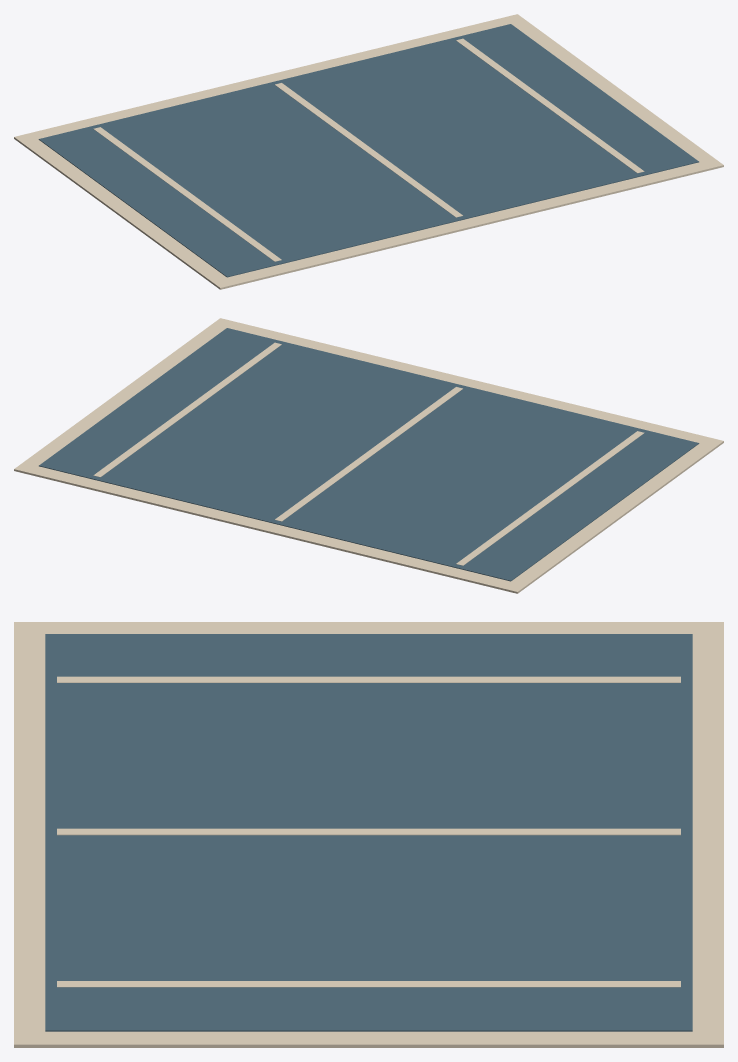
Rendered from area_rug.glb.
The picture shows the model from 3 angles, top to bottom: view 1: azimuth 30°, elevation 25°; view 2: azimuth 150°, elevation 25°; view 3: azimuth 270°, elevation 25°; orthographic projection. The views are drawn at different scales.
Visible parts, largest first — view 1: Inner field, Woven body, Woven stripe, Woven stripe.002, Woven stripe.001; view 2: Inner field, Woven body, Woven stripe, Woven stripe.002, Woven stripe.001; view 3: Inner field, Woven body, Woven stripe.001, Woven stripe, Woven stripe.002.
Part boxes in pixels (x1,y1,x2,y2): Inner field: [38, 24, 698, 277]; Woven body: [14, 14, 723, 289]; Woven stripe: [93, 127, 281, 261]; Woven stripe.002: [456, 38, 644, 173]; Woven stripe.001: [275, 83, 462, 217]; Inner field: [39, 328, 699, 581]; Woven body: [14, 318, 723, 593]; Woven stripe: [456, 431, 644, 565]; Woven stripe.002: [93, 342, 281, 477]; Woven stripe.001: [275, 387, 462, 521]; Inner field: [45, 634, 692, 1031]; Woven body: [14, 622, 723, 1047]; Woven stripe.001: [57, 828, 680, 835]; Woven stripe: [57, 676, 680, 682]; Woven stripe.002: [57, 981, 680, 987].
Size of the model in its own units: 2.24 by 0.012 by 1.59.
